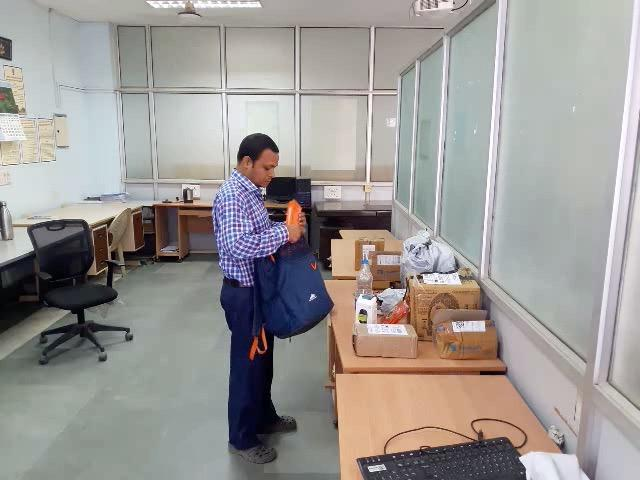shoplifting: (199, 201, 376, 308)
